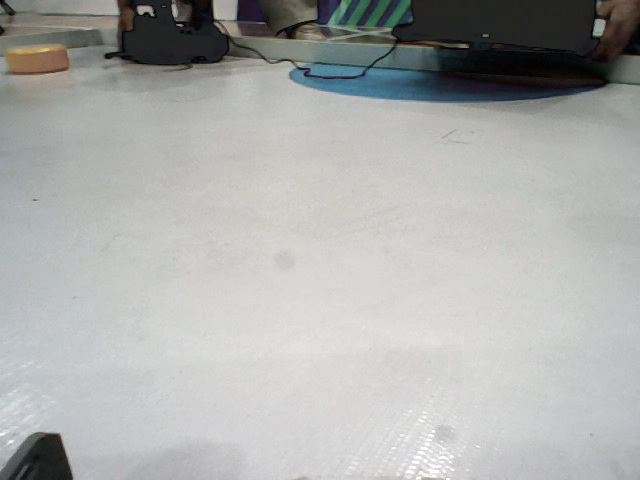yellow: (3, 41, 82, 79)
